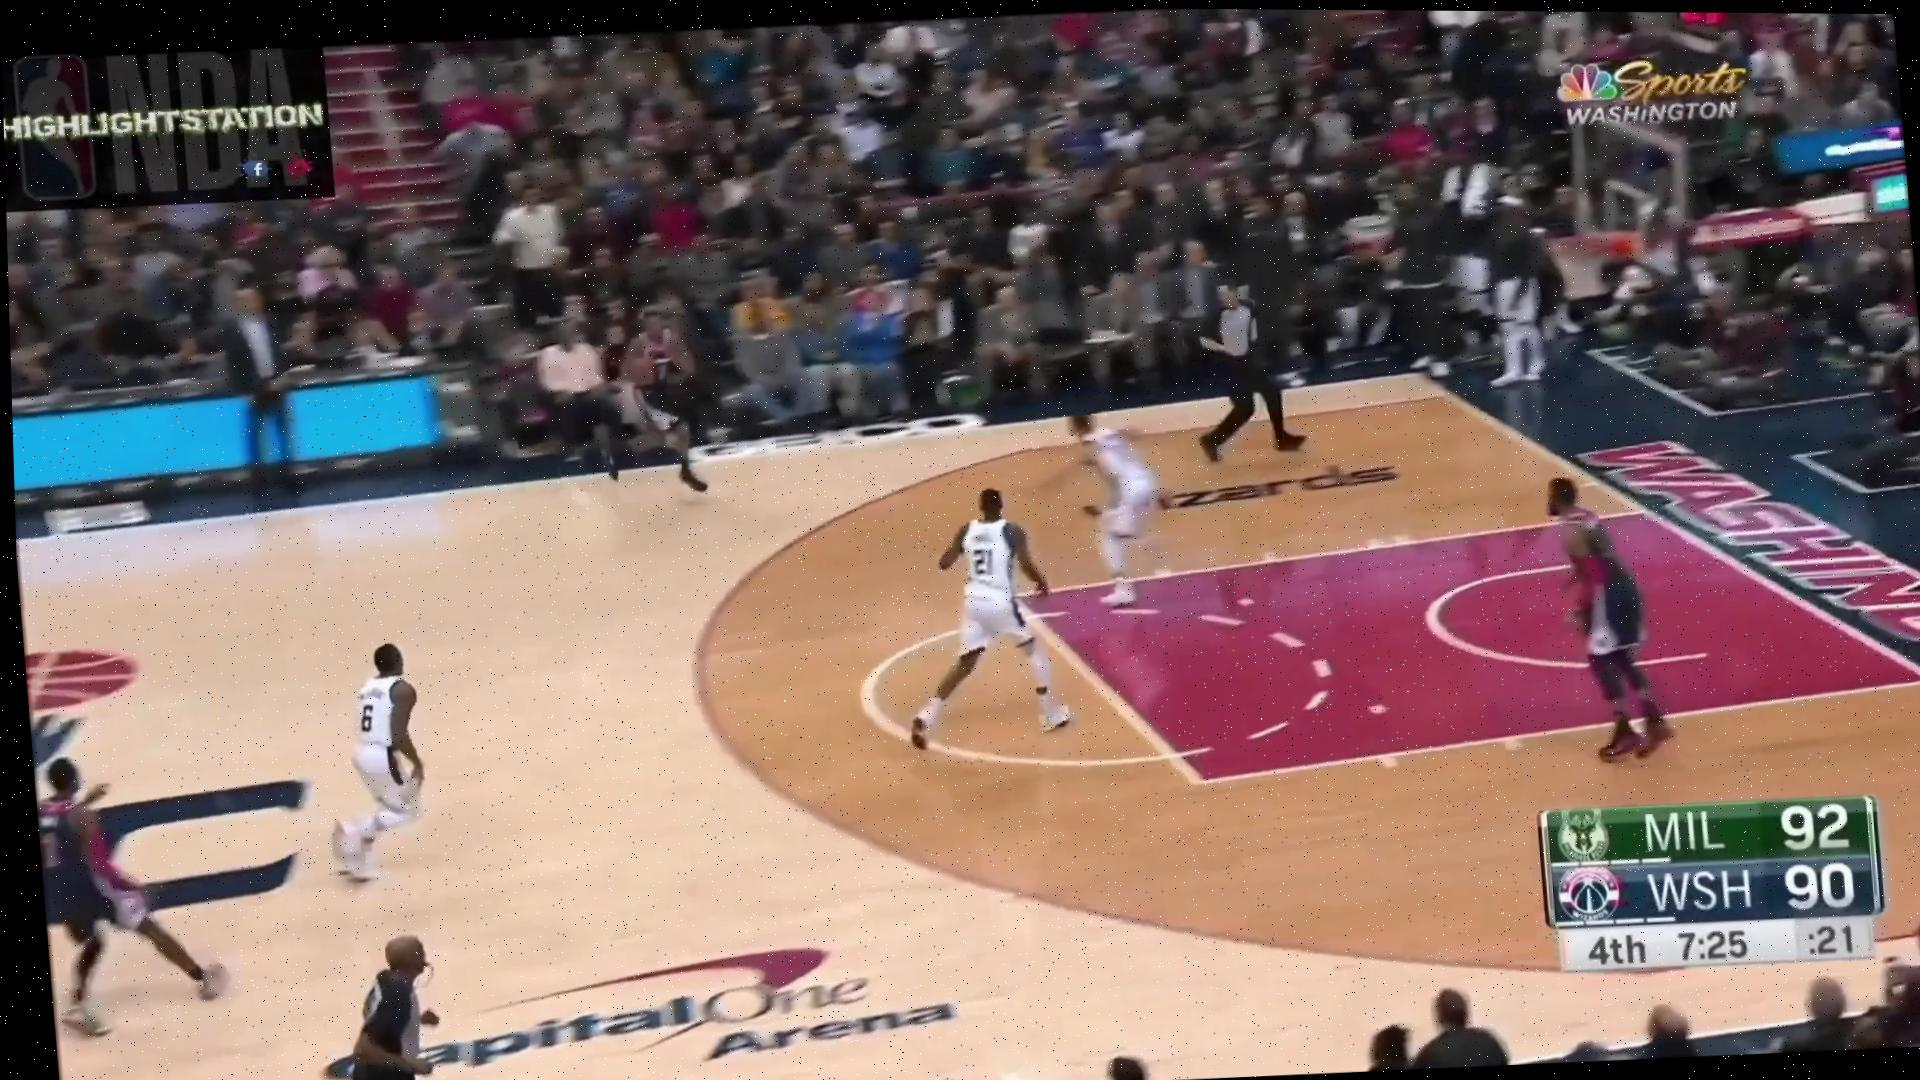no_foul: (37, 611, 468, 1006)
